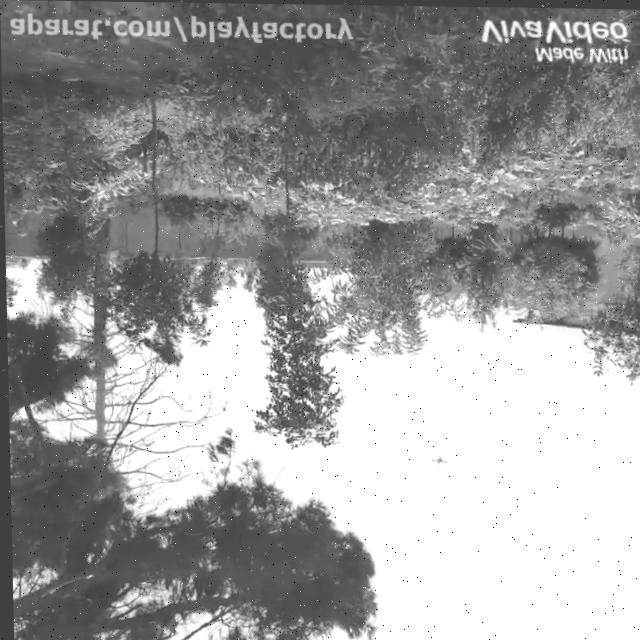drone: (425, 455, 449, 469)
